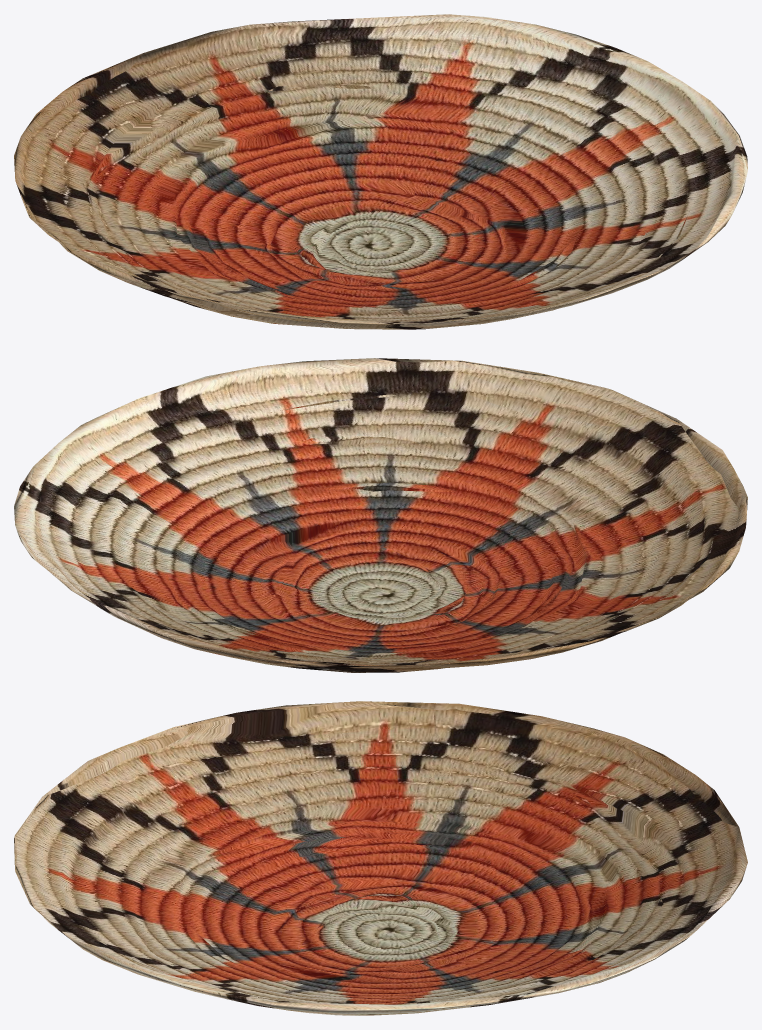
Rendered from Sunset Radial Starburst.fbx.
3 renders of one model, top to bottom at view 1: azimuth 30°, elevation 25°; view 2: azimuth 150°, elevation 25°; view 3: azimuth 270°, elevation 25°, orthographic.
Visible parts, largest first — view 1: Sunset Radial Starburst; view 2: Sunset Radial Starburst; view 3: Sunset Radial Starburst.
Boxes of the visible parts, x1,y1,x2,y2 form: Sunset Radial Starburst: (14,14,747,329); Sunset Radial Starburst: (14,358,747,672); Sunset Radial Starburst: (14,701,747,1015).
Bounding box in the file's own units: 37.99 × 4.97 × 38.16.
1 material, 1 textured.
